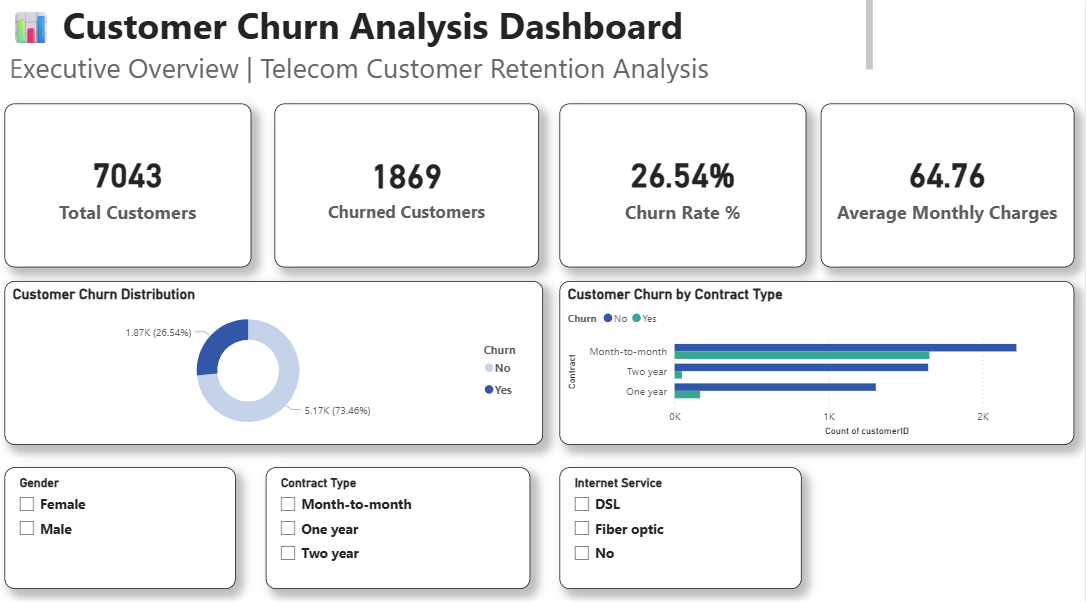

The page's visual inventory and layout, read from the dashboard file:
{"tool":"powerbi","page":{"name":"Executive Dashboard","canvas":[1280,720],"ordinal":0},"visuals":[{"type":"textbox","box":[9.4,0,1026.4,107.5],"z":0},{"type":"card","fields":{"Values":["Customers.Total Customers"]},"box":[9.4,126.4,290.6,192.5],"z":1000},{"type":"card","fields":{"Values":["Customers.Churn Rate %"]},"box":[662.3,126.4,290.6,192.5],"z":2000},{"type":"card","fields":{"Values":["Customers.Churned Customers"]},"box":[326.4,126.4,311.3,192.5],"z":3000},{"type":"card","fields":{"Values":["Customers.Average Monthly Charges"]},"box":[969.8,126.4,298.1,192.5],"z":4000},{"type":"donutChart","title":"Customer Churn Distribution","fields":{"Category":["Customers.Churn"],"Y":["CountNonNull(Customers.customerID)"]},"box":[9.4,335.8,634,192.5],"z":5000},{"type":"clusteredBarChart","title":"Customer Churn by Contract Type","fields":{"Category":["Customers.Contract"],"Y":["CountNonNull(Customers.customerID)"],"Series":["Customers.Churn"]},"box":[662.3,335.8,605.7,192.5],"z":6000},{"type":"slicer","fields":{"Values":["Customers.Contract"]},"box":[316,554.7,311.3,143.4],"z":7000},{"type":"slicer","fields":{"Values":["Customers.gender"]},"box":[9.4,554.7,271.7,143.4],"z":8000},{"type":"slicer","fields":{"Values":["Customers.InternetService"]},"box":[662.3,554.7,284.9,143.4],"z":9000}]}

Visuals, with their boxes in screenshot pixels (x1, y1, x2, y2), scaled from the page's 1280x720 canvas onto the 1086x602 screenshot:
textbox: l=8, t=0, r=879, b=90
card - Customers.Total Customers: l=8, t=106, r=255, b=267
card - Customers.Churn Rate %: l=562, t=106, r=808, b=267
card - Customers.Churned Customers: l=277, t=106, r=541, b=267
card - Customers.Average Monthly Charges: l=823, t=106, r=1076, b=267
"Customer Churn Distribution" donutChart: l=8, t=281, r=546, b=442
"Customer Churn by Contract Type" clusteredBarChart: l=562, t=281, r=1076, b=442
slicer - Customers.Contract: l=268, t=464, r=532, b=584
slicer - Customers.gender: l=8, t=464, r=238, b=584
slicer - Customers.InternetService: l=562, t=464, r=804, b=584
